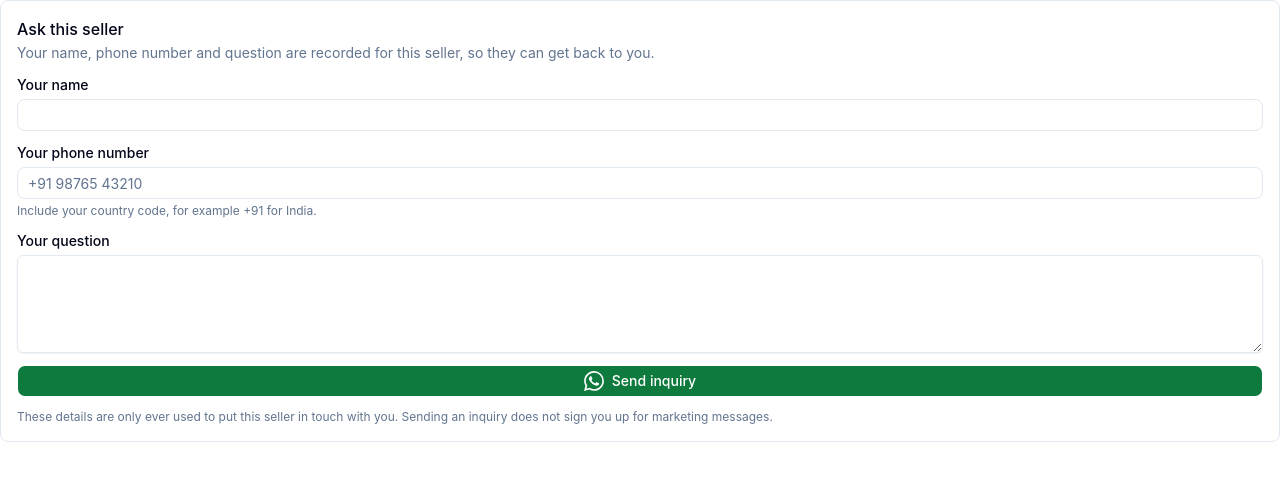
Test case: InquiryForm › announces a failure and keeps what the buyer typed
Type "Asha Rao" into the field labelled "Your name".
click(640, 115); type("Asha Rao")  # box x1=17 y1=99 x2=1263 y2=131
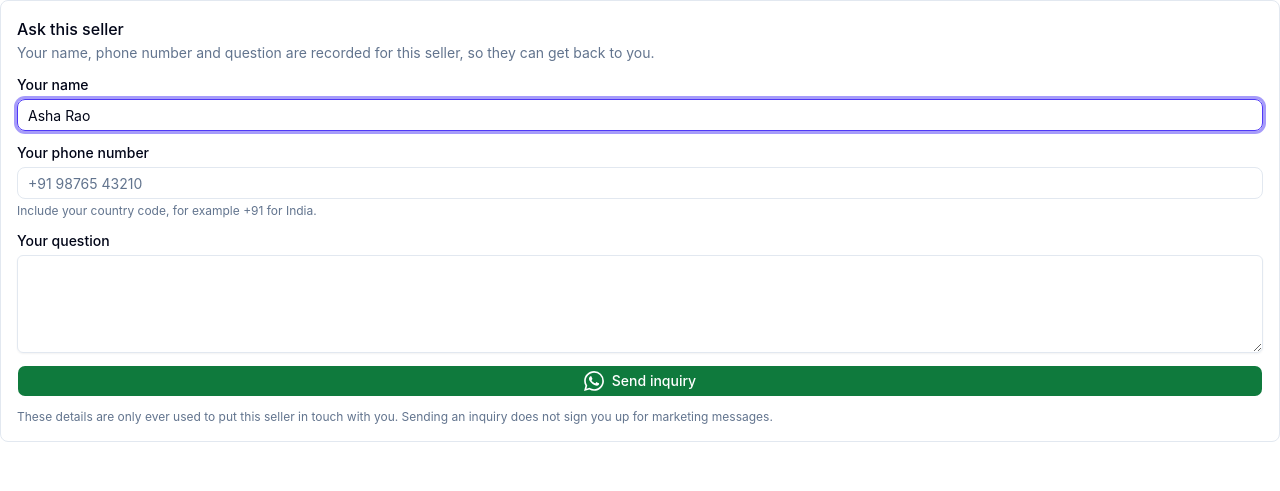
Type "+919000000001" into the field labelled "Your phone number".
click(640, 183); type("+919000000001")  # box x1=17 y1=167 x2=1263 y2=199
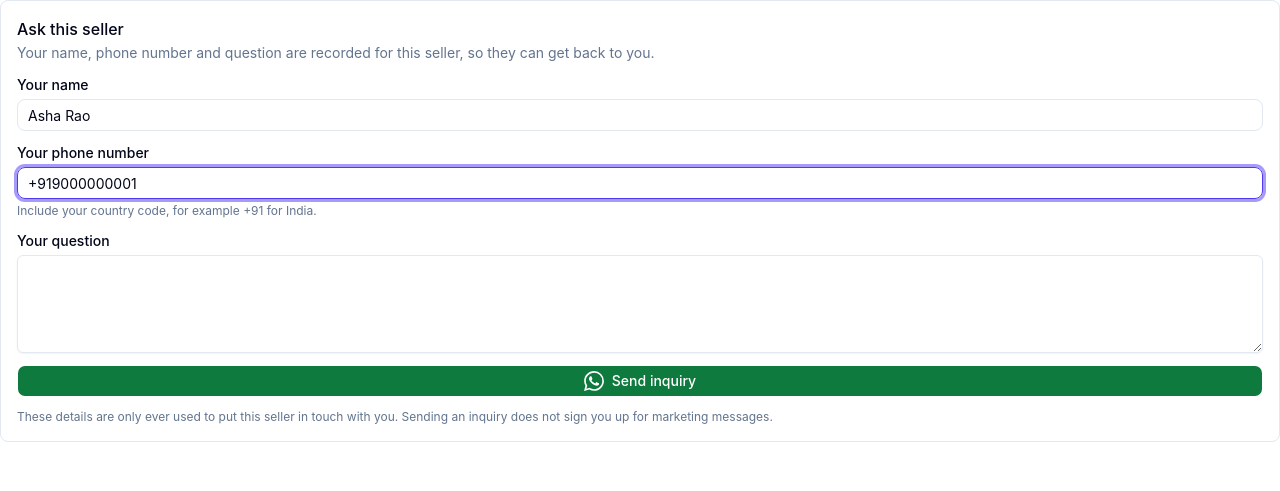
Type "Available in Chennai?" into the text box labelled "Your question".
click(640, 304); type("Available in Chennai?")  # box x1=17 y1=255 x2=1263 y2=353
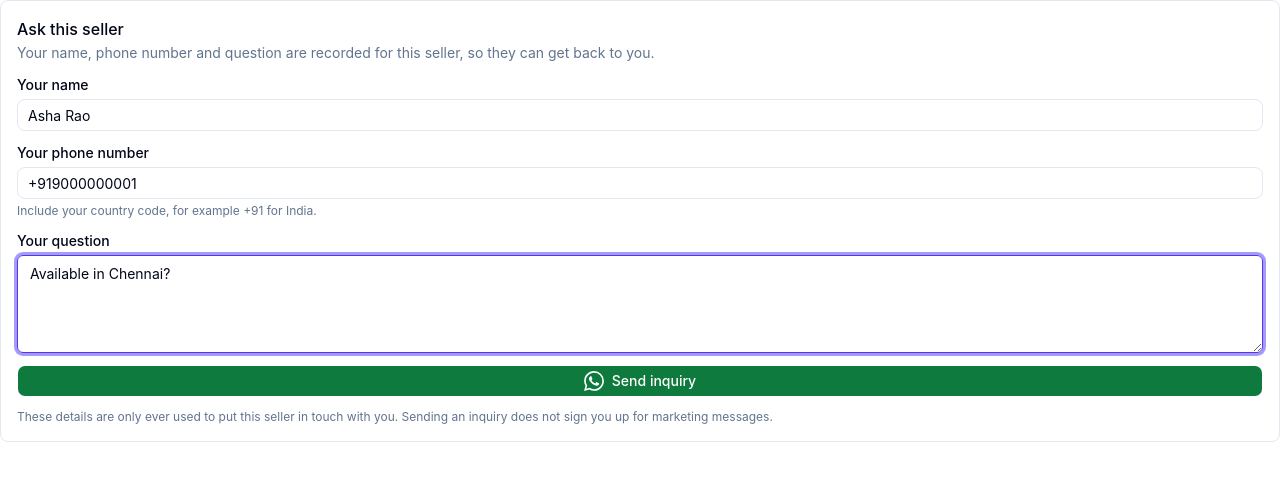
Click the button "Send inquiry".
click(640, 381)  # box x1=17 y1=365 x2=1263 y2=397
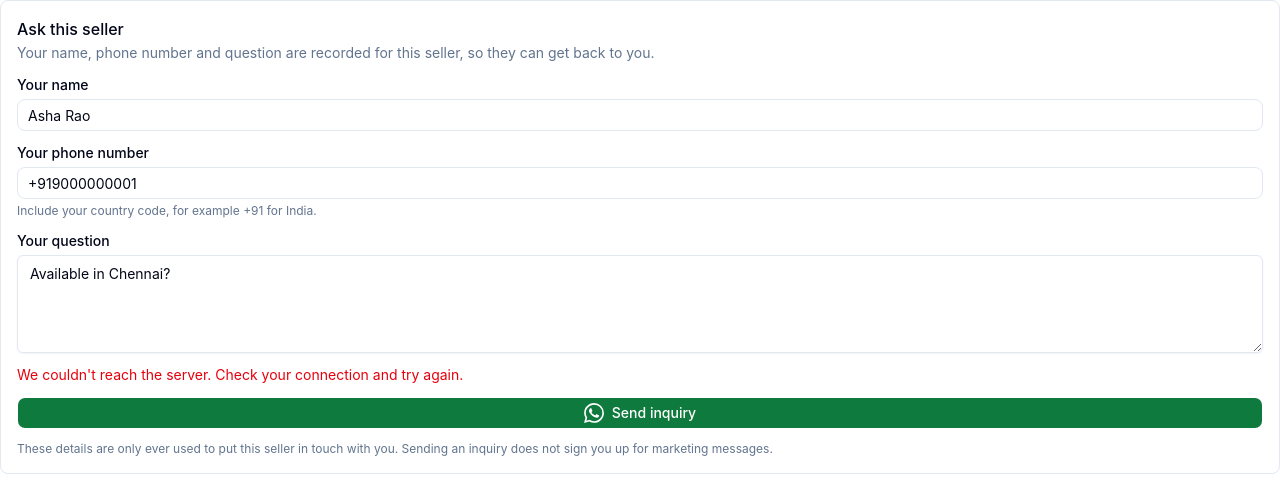
Expected: the message "We couldn't reach the server. Check your connection and try again." is shown, x1=17 y1=366 x2=463 y2=383
